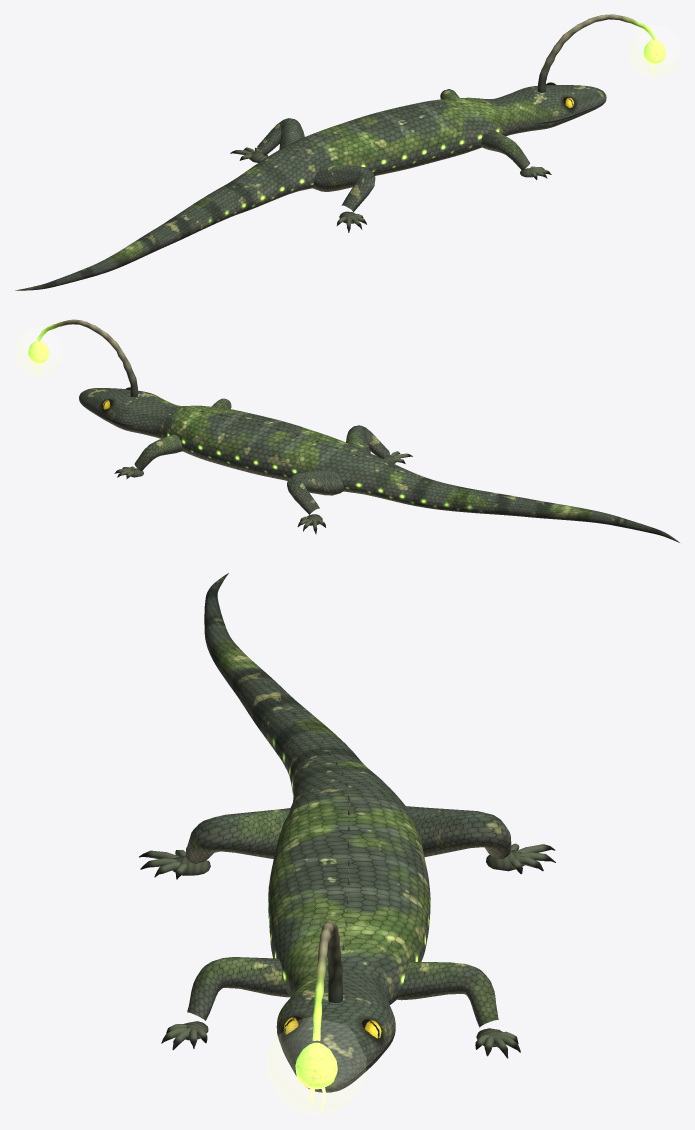
File: lagarto_v01.glb
3 views of the same model, one above another, from view 1: azimuth 30°, elevation 25°; view 2: azimuth 150°, elevation 25°; view 3: azimuth 270°, elevation 25° (orthographic). The views are drawn at different scales.
Bounding box in the file's own units: 3.34 × 0.5108 × 0.9404.
Materials: 12 (10 with a texture image).
